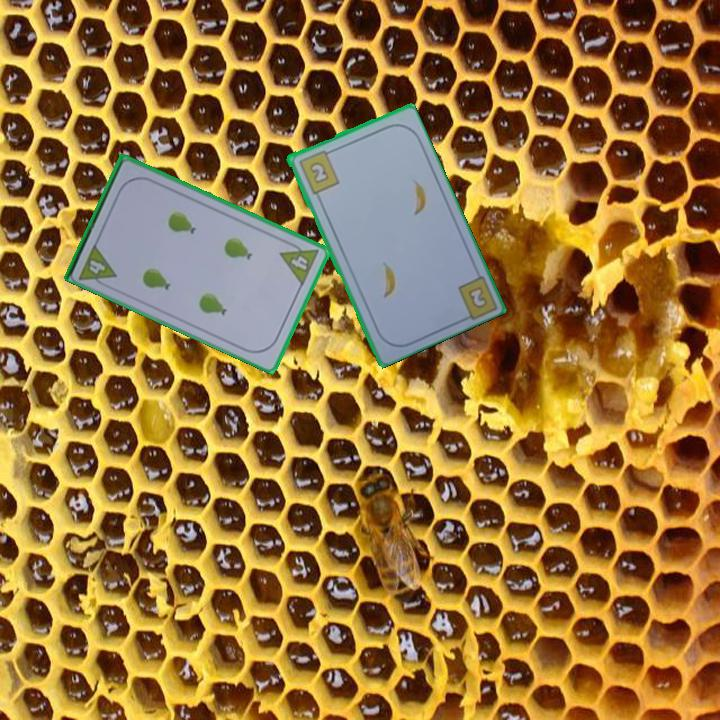2b: (295, 146, 342, 197), (466, 285, 488, 309)
4p: (276, 236, 322, 288), (76, 240, 119, 291)
